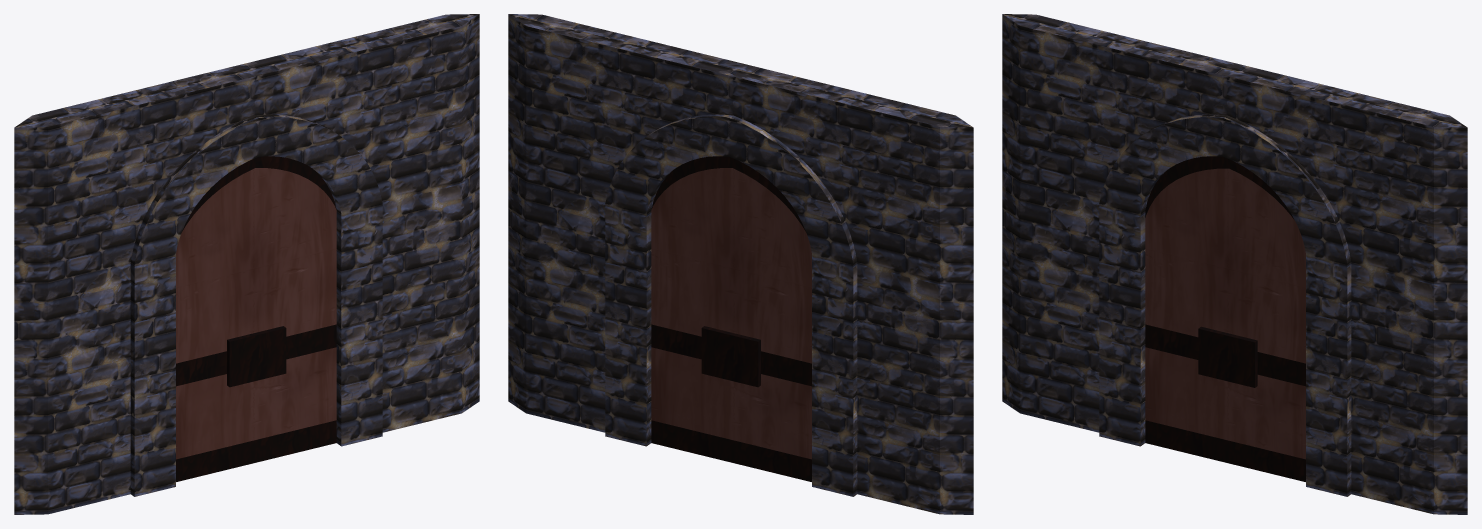
File: door.glb
3 views of the same model, side by side, from view 1: azimuth 30°, elevation 25°; view 2: azimuth 150°, elevation 25°; view 3: azimuth 330°, elevation 25° (orthographic).
Parts seen in each view (by area): view 1: doorway_arch, door; view 2: doorway_arch, door; view 3: doorway_arch, door.
Part boxes in pixels (x1,y1,x2,y2): doorway_arch: (14,14,479,514); door: (176,156,336,481); doorway_arch: (508,14,973,514); door: (651,156,811,481); doorway_arch: (1002,14,1467,514); door: (1145,156,1305,481).
Size of the model in its own units: 2.14 by 1.7 by 0.185.
Materials: 4 (4 with a texture image).
